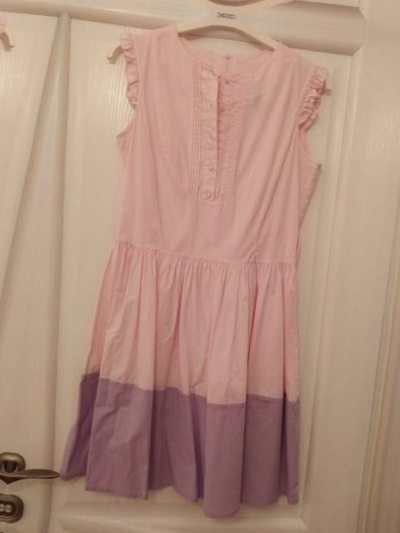Dress: (37, 23, 375, 514), (0, 0, 36, 473), (98, 0, 400, 10)
